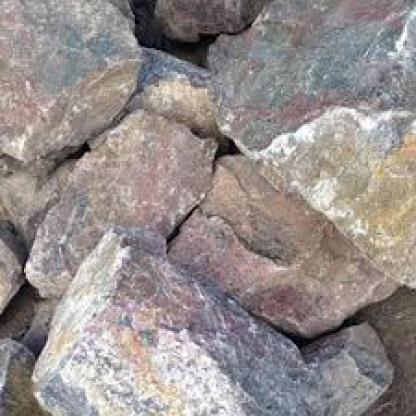Igneous_Diorite: (32, 222, 414, 414), (183, 106, 414, 350), (0, 2, 146, 181)
